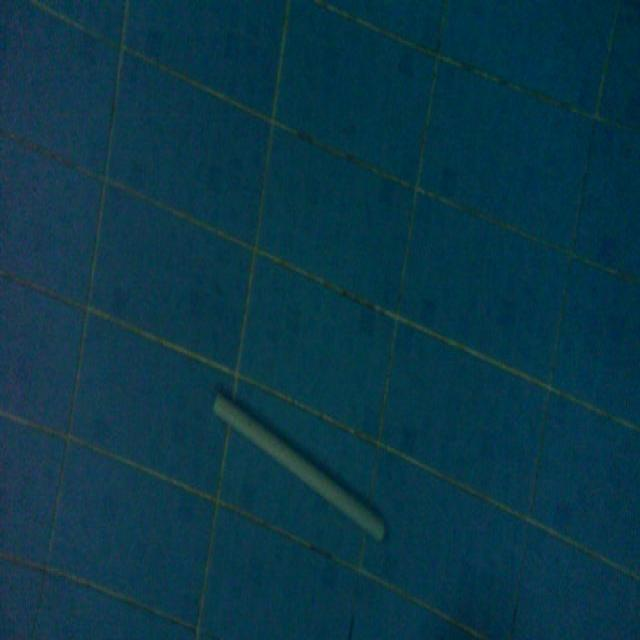Cube: (210, 386, 387, 546)
